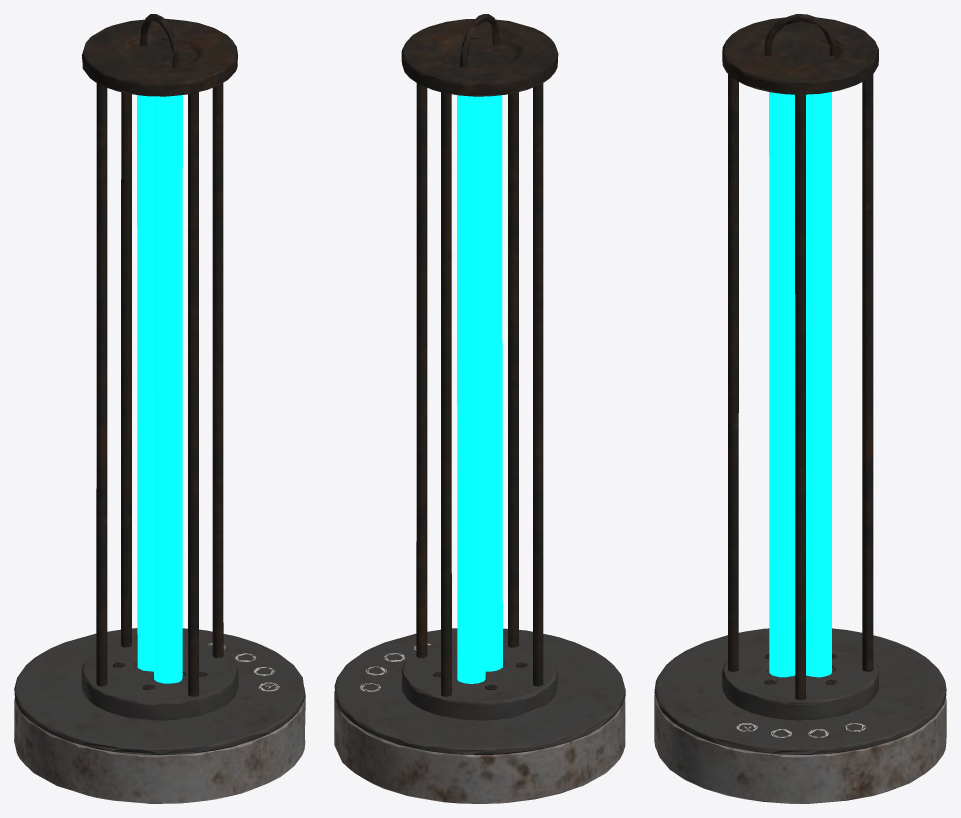
Rendered from craft_r24_small_vigil.glb.
The picture shows the model from 3 angles, left to right: view 1: azimuth 30°, elevation 25°; view 2: azimuth 150°, elevation 25°; view 3: azimuth 270°, elevation 25°; orthographic projection.
Visible parts, largest first — view 1: craft_r24_small_vigil; view 2: craft_r24_small_vigil; view 3: craft_r24_small_vigil.
Part boxes in pixels (left/top/right/bottom): craft_r24_small_vigil: left=14, top=14, right=305, bottom=803; craft_r24_small_vigil: left=334, top=14, right=625, bottom=803; craft_r24_small_vigil: left=654, top=14, right=946, bottom=803.
Size of the model in its own units: 0.1598 by 0.4398 by 0.1599.
7 materials, 6 textured.
